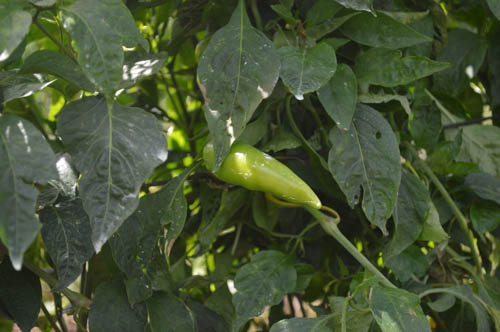ChiliPepper: (203, 141, 325, 214)
